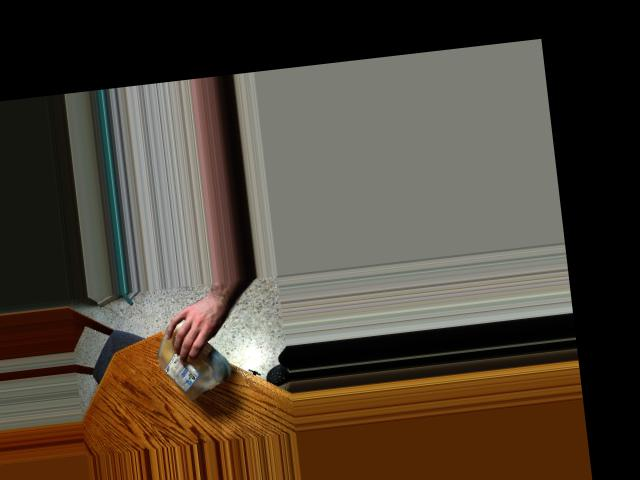cheese: (150, 308, 233, 406)
